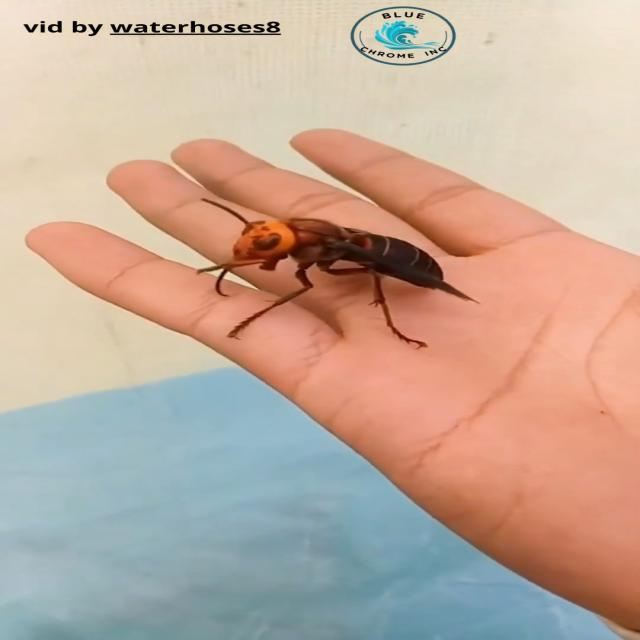Hornets: (193, 196, 483, 350)
